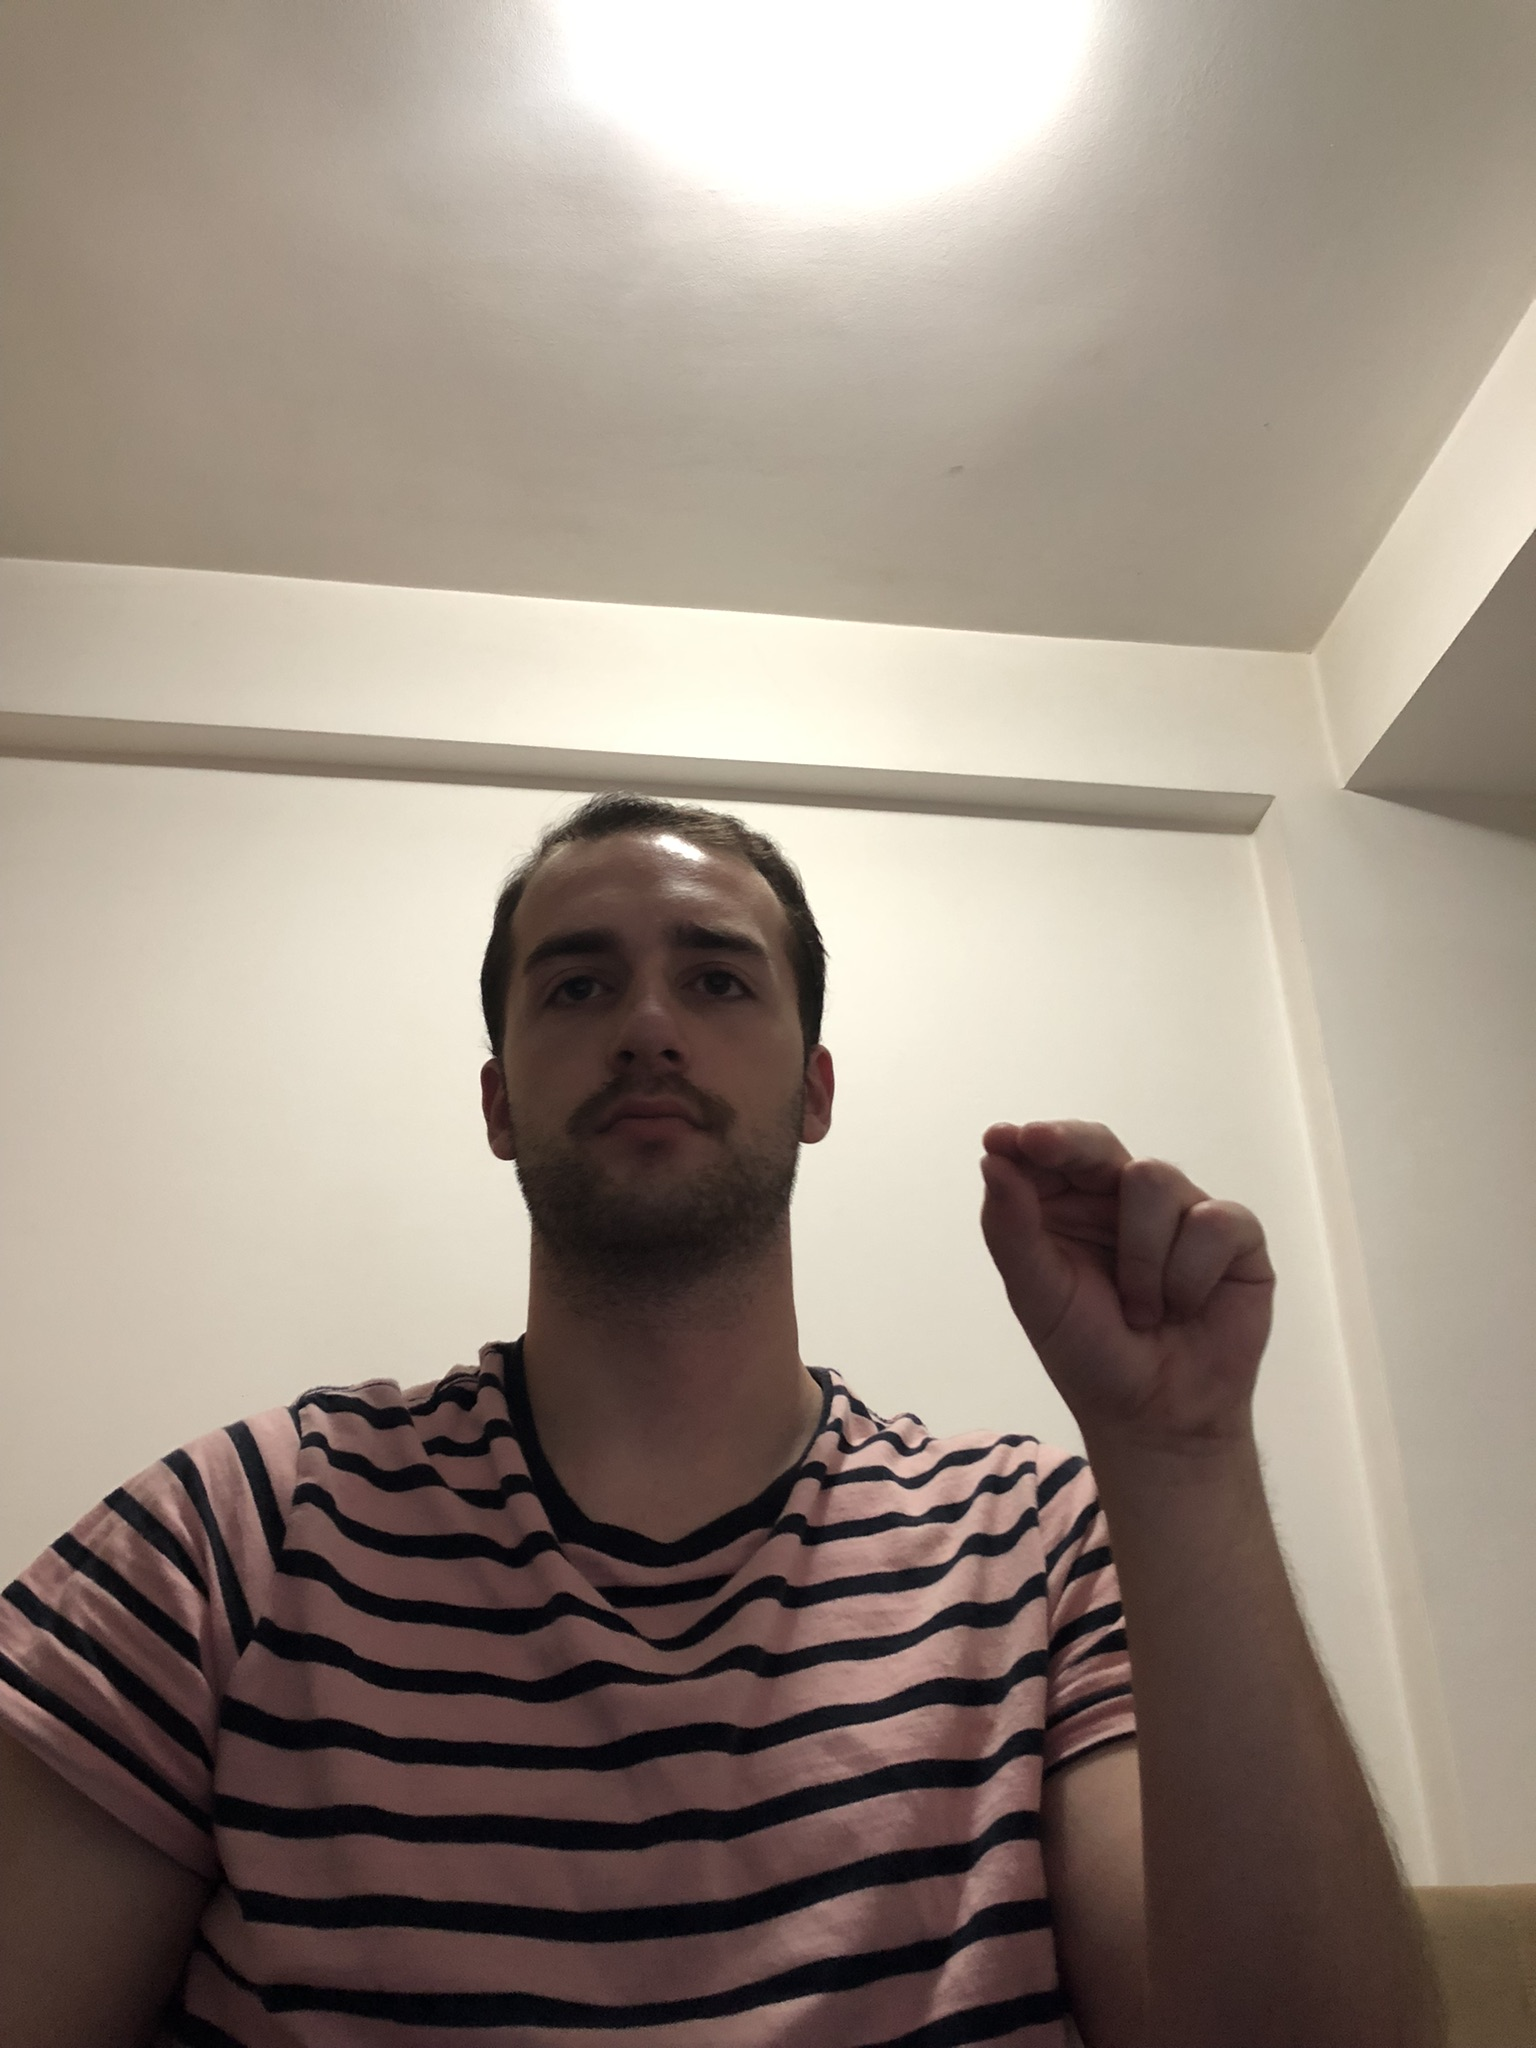No: (957, 1109, 1320, 1488)
